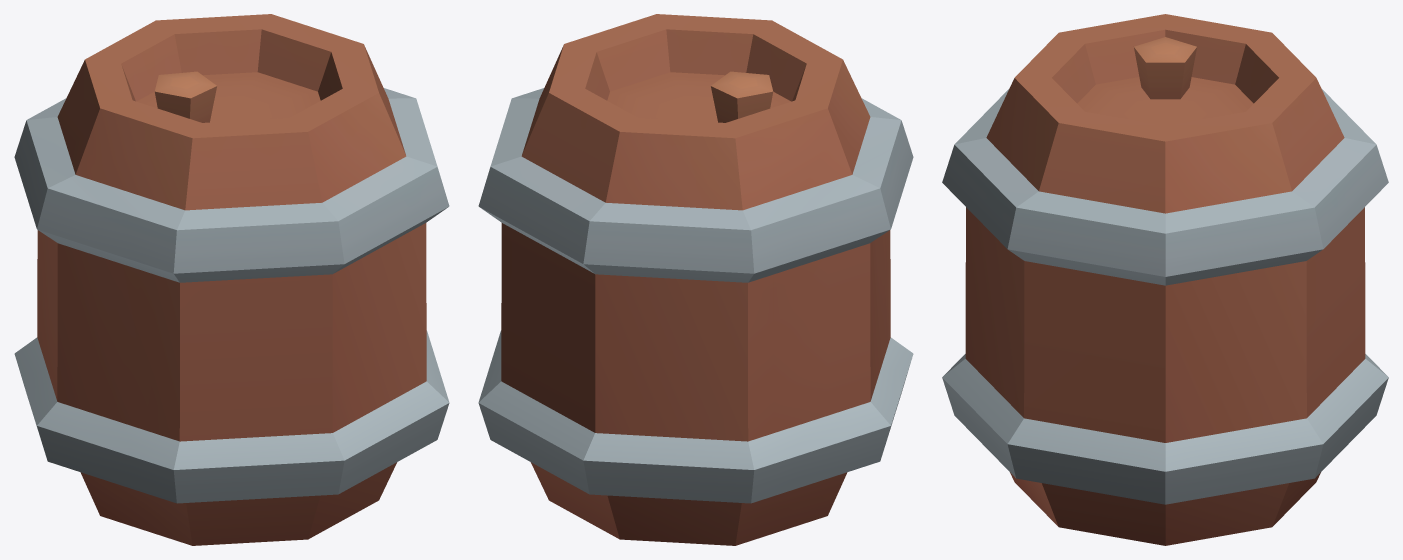
The model's file is d_kaykit_tonnelet.glb.
3 renders of one model, left to right at view 1: azimuth 30°, elevation 25°; view 2: azimuth 150°, elevation 25°; view 3: azimuth 270°, elevation 25°, orthographic.
Parts seen in each view (by area): view 1: d_kaykit_tonnelet; view 2: d_kaykit_tonnelet; view 3: d_kaykit_tonnelet.
Part boxes in pixels (left/top/right/bottom): d_kaykit_tonnelet: left=14, top=14, right=449, bottom=545; d_kaykit_tonnelet: left=478, top=14, right=913, bottom=545; d_kaykit_tonnelet: left=942, top=14, right=1388, bottom=545.
Size of the model in its own units: 1 by 1.02 by 1.
Materials: 1 (1 with a texture image).
